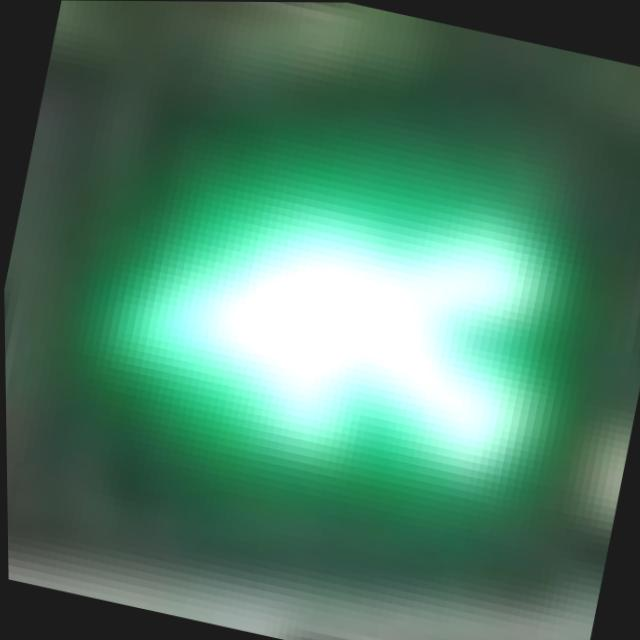green_light: (51, 118, 570, 543)
